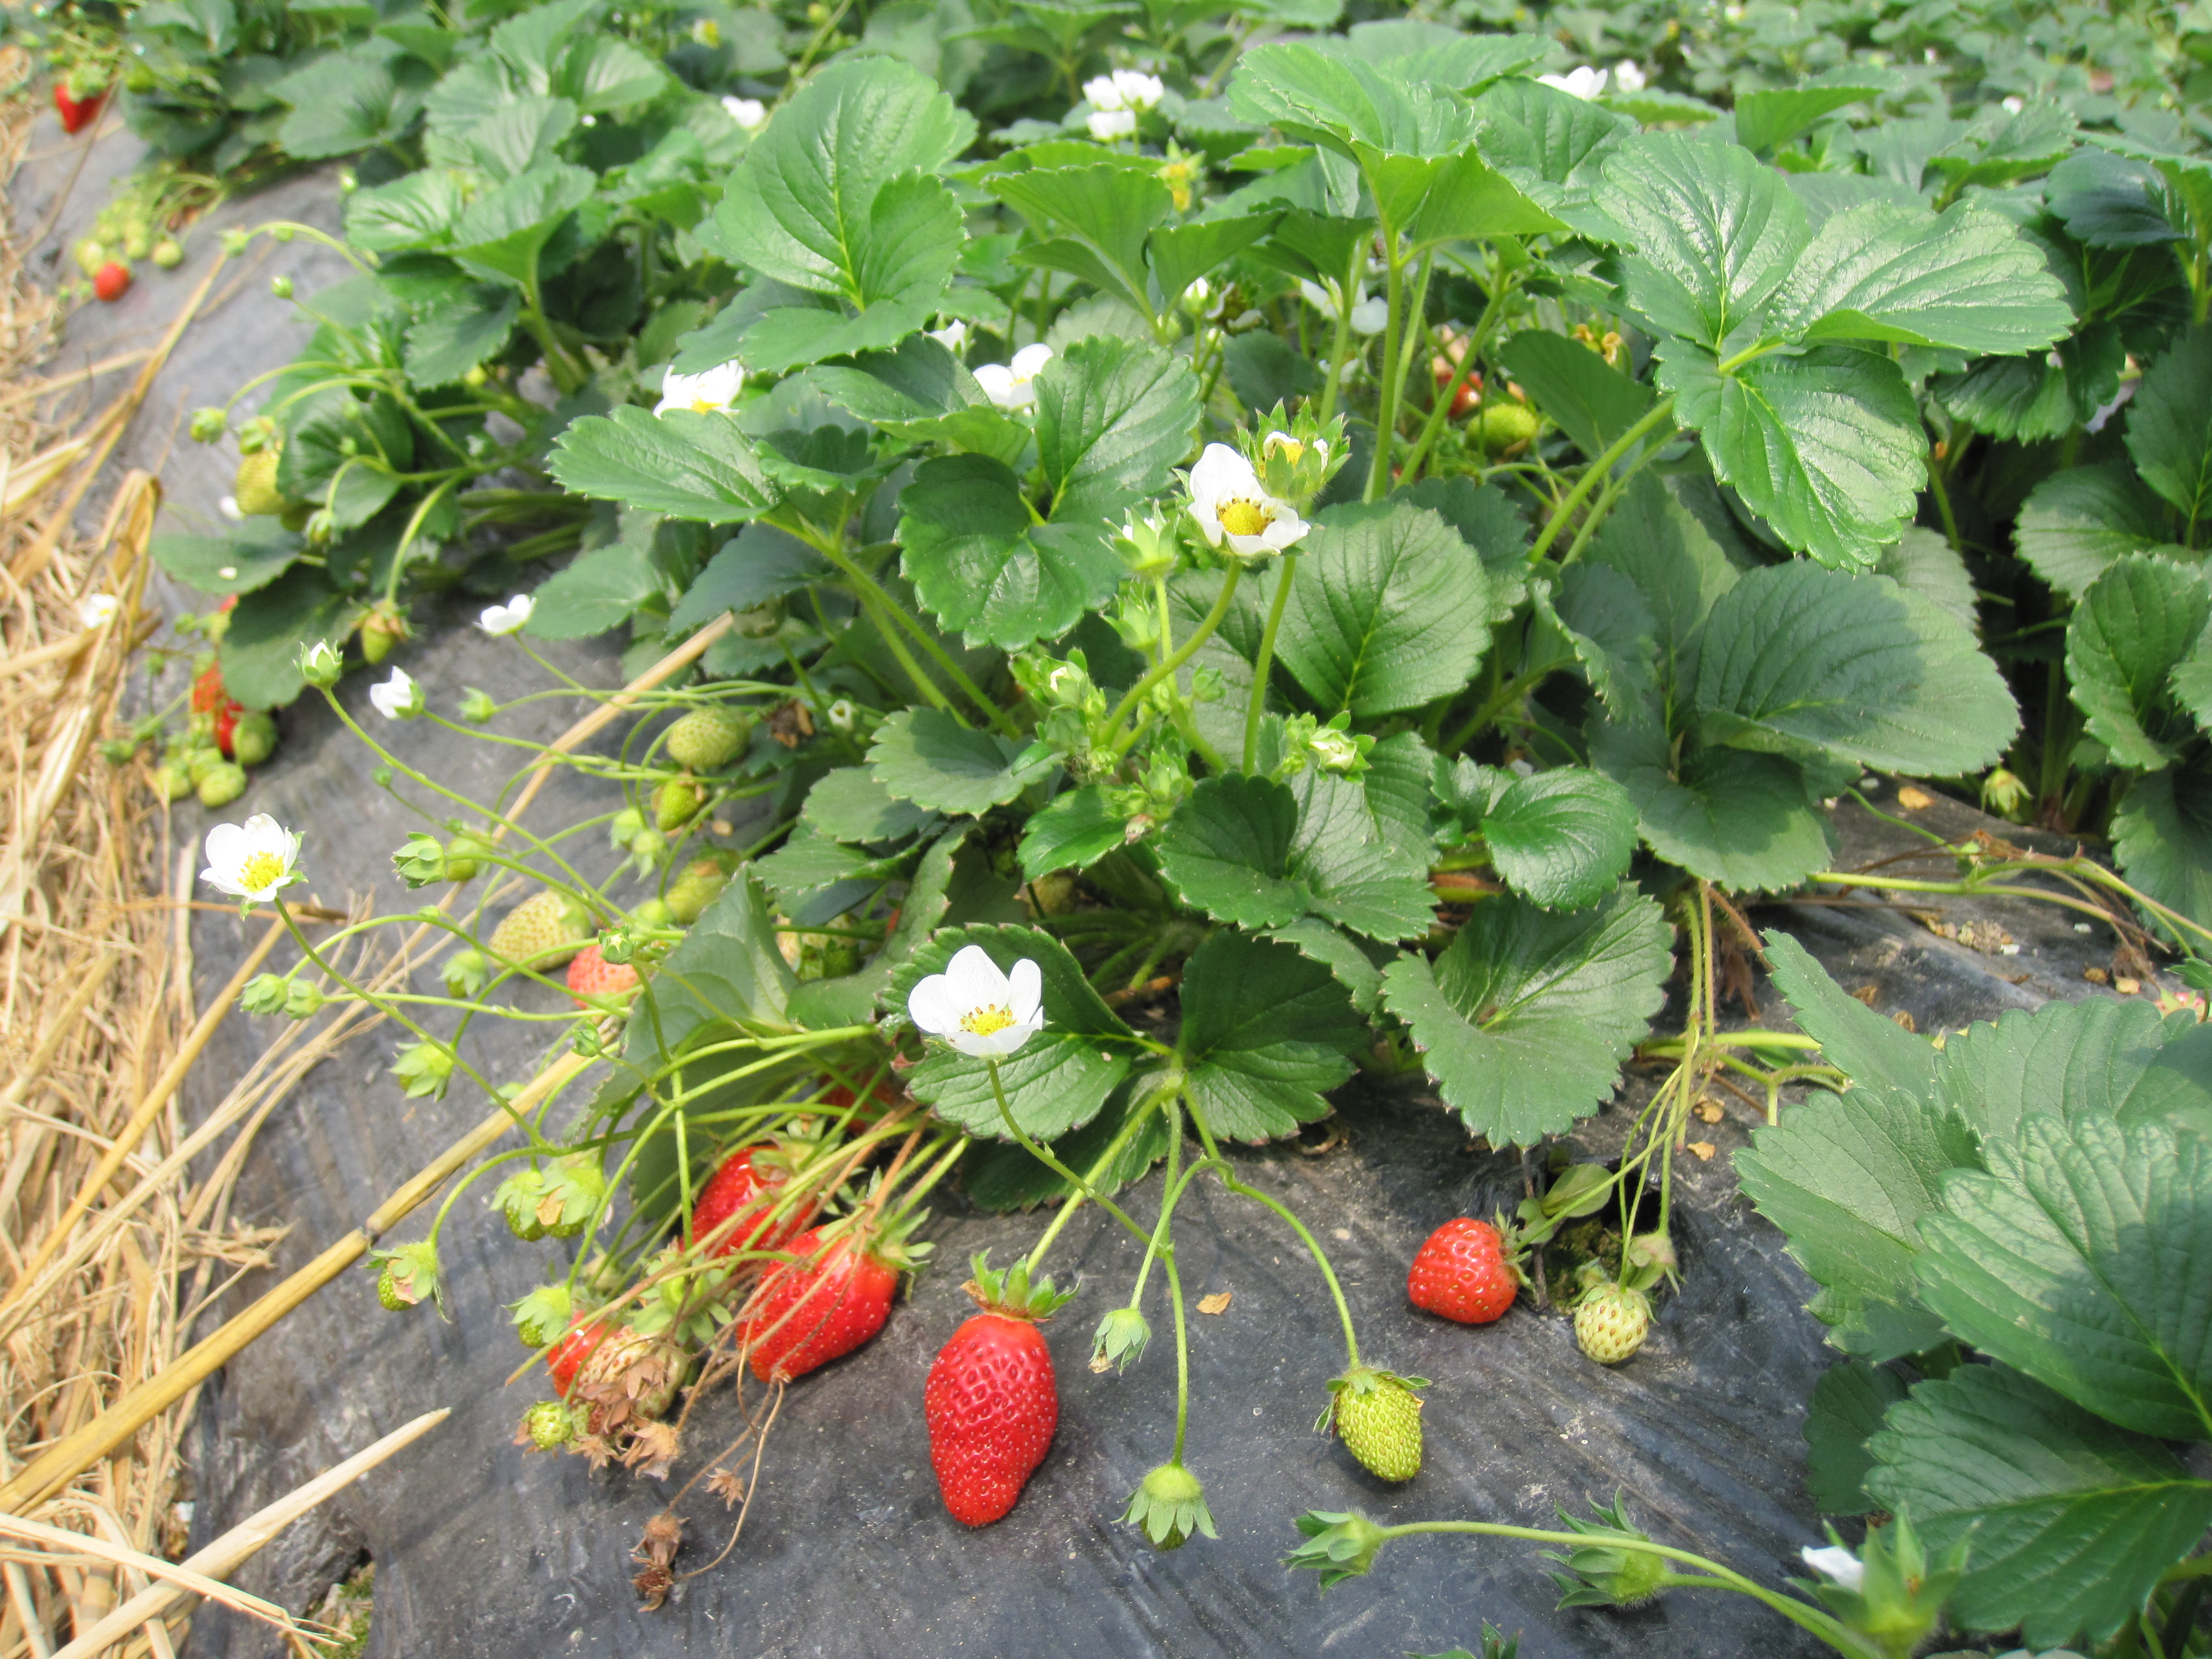StrawberryFusiform: (914, 1305, 1062, 1532), (740, 1234, 899, 1391)
StrawberryIrremovable: (1399, 1208, 1531, 1330), (810, 1035, 932, 1147), (1331, 1364, 1430, 1488), (178, 659, 286, 769), (495, 1150, 608, 1249), (1120, 1455, 1217, 1554), (484, 890, 589, 974), (559, 929, 658, 1016), (1571, 1276, 1656, 1371), (157, 742, 244, 814), (667, 701, 740, 775), (385, 1026, 456, 1101), (1463, 392, 1543, 458), (653, 856, 728, 925), (348, 598, 421, 667), (230, 448, 305, 514), (500, 1281, 578, 1344), (376, 1234, 439, 1310), (425, 824, 495, 890), (650, 775, 719, 831), (521, 1389, 578, 1455), (89, 206, 136, 256), (183, 403, 230, 450), (113, 214, 160, 261), (73, 239, 122, 282), (150, 237, 192, 272)
StrawberryOther: (664, 1124, 827, 1286), (47, 78, 106, 132), (80, 253, 131, 314)
StrawberryRemovable: (921, 1309, 1059, 1530), (740, 1230, 899, 1385), (669, 1126, 815, 1281), (47, 78, 111, 138), (87, 261, 131, 308)
